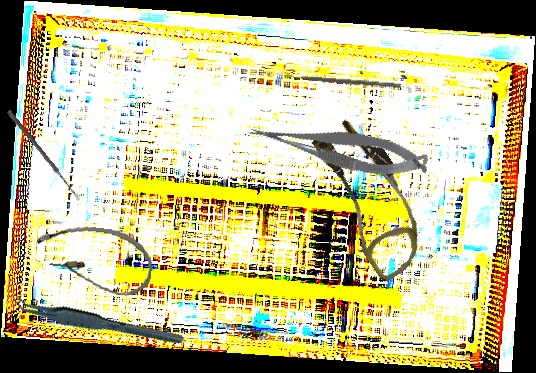Cannula: (295, 111, 447, 284), (32, 220, 156, 299)
Micro Scissor: (245, 101, 434, 192)
Spatula Surgical: (286, 71, 401, 88)
Surgical Spoon: (6, 109, 82, 202)
Tissue Forceps: (8, 278, 186, 365)
